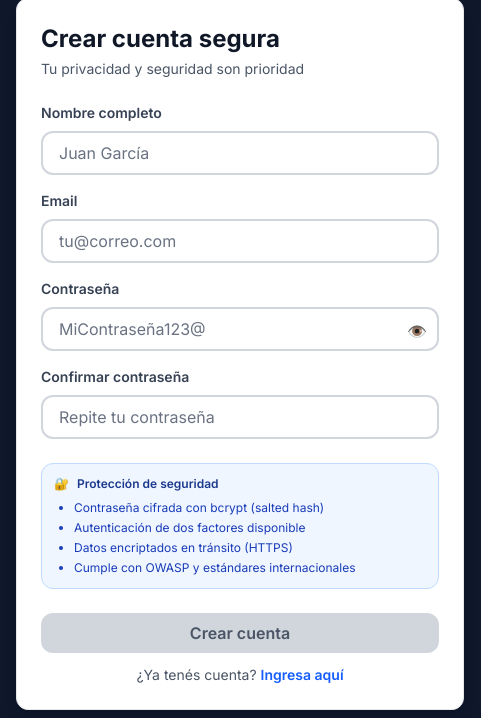
Scenario: SecureSignupForm › Form validation › shows success message when passwords match
In the password field with placeholder "MiContraseña123@": (240, 329) [41,307,439,351], type "SecurePass123@"
(page scrolled)
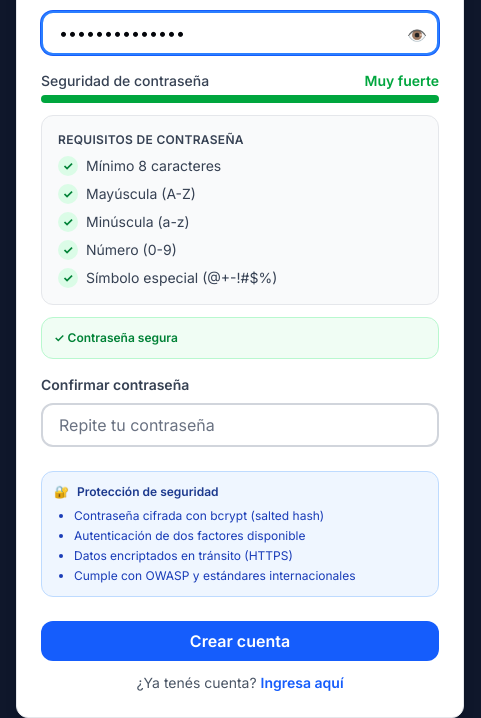
In the password field with placeholder "Repite tu contraseña": (240, 425) [41,403,439,447], type "SecurePass123@"
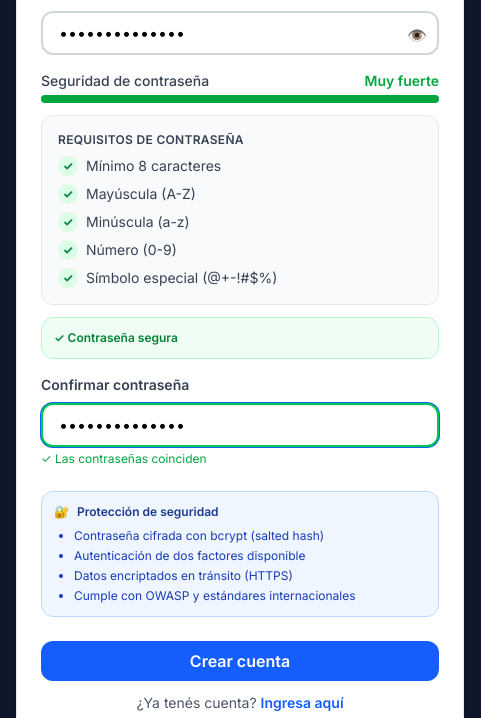
Expected: the text "✓ Las contraseñas coinciden" is shown, [41,451,207,466]
